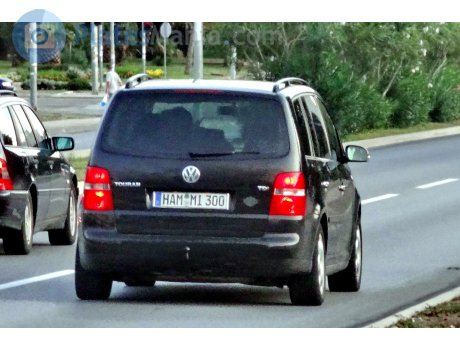License Plates: (160, 191, 230, 206)
